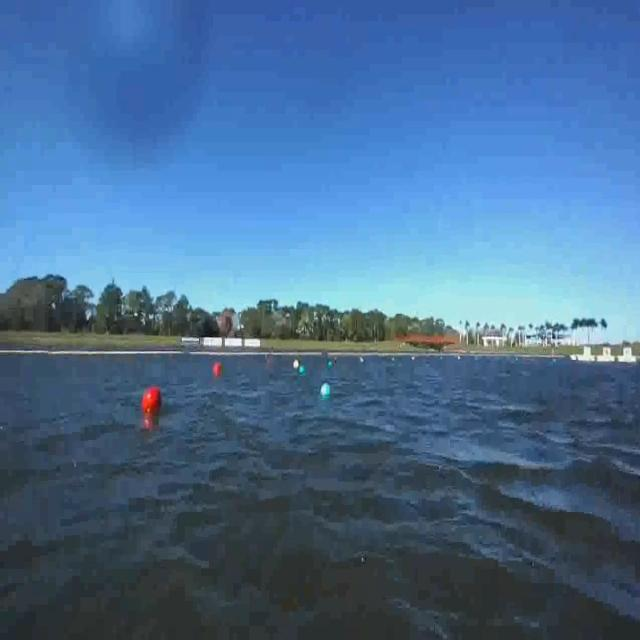green-buoy: (300, 361, 308, 381), (324, 381, 333, 396)
red-buoy: (143, 384, 162, 414)
red-column-buoy: (214, 360, 222, 377)
